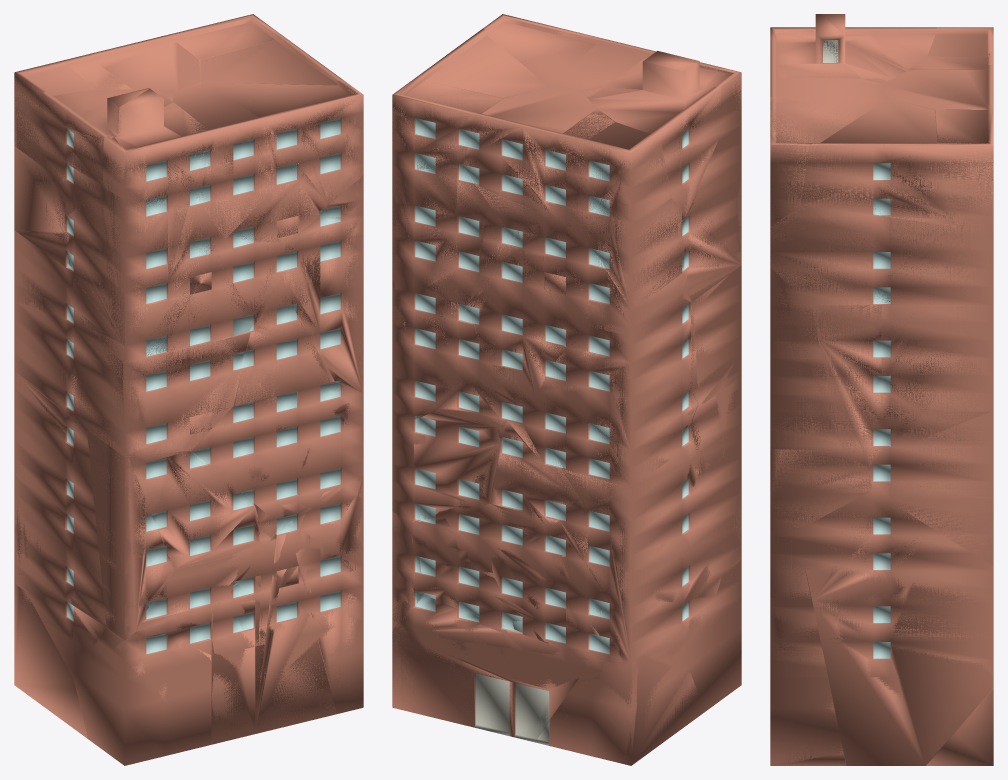
Rendered from Building1.fbx.
The picture shows the model from 3 angles, left to right: view 1: azimuth 30°, elevation 25°; view 2: azimuth 150°, elevation 25°; view 3: azimuth 270°, elevation 25°; orthographic projection.
Visible parts, largest first — view 1: Building1_destroyed, Building1_destroyed_cell.033, Building1_destroyed_cell.017, Building1_destroyed_cell.037, Building1_destroyed_cell.005, Building1_destroyed_cell.030, Building1_destroyed_cell.020, Building1_destroyed_cell.025, Building1_destroyed_cell.011, Building1_destroyed_cell.001, Building1_destroyed_cell.019, Building1_destroyed_cell.023 (+16 smaller); view 2: Building1_destroyed, Building1_destroyed_cell.013, Building1_destroyed_cell.036, Building1_destroyed_cell.021, Building1_destroyed_cell.006, Building1_destroyed_cell.016, Building1_destroyed_cell.023, Building1_destroyed_cell.010, Building1_destroyed_cell.027, Building1_destroyed_cell.042, Building1_destroyed_cell.001, Building1_destroyed_cell.022 (+18 smaller); view 3: Building1_destroyed, Building1_destroyed_cell.009, Building1_destroyed_cell.022, Building1_destroyed_cell.015, Building1_destroyed_cell.029, Building1_destroyed_cell.040, Building1_destroyed_cell.020, Building1_destroyed_cell.042, Building1_destroyed_cell.037, Building1_destroyed_cell.036, Building1_destroyed_cell.021, Building1_destroyed_cell.014 (+8 smaller).
Boxes of the visible parts, x1,y1,x2,y2 form: Building1_destroyed: (14,17,363,765); Building1_destroyed_cell.033: (79,333,250,457); Building1_destroyed_cell.017: (86,429,173,640); Building1_destroyed_cell.037: (281,215,363,392); Building1_destroyed_cell.005: (196,120,327,242); Building1_destroyed_cell.030: (255,524,336,733); Building1_destroyed_cell.020: (205,80,363,203); Building1_destroyed_cell.025: (137,451,279,569); Building1_destroyed_cell.011: (71,188,220,345); Building1_destroyed_cell.001: (14,584,87,738); Building1_destroyed_cell.019: (287,476,363,698); Building1_destroyed_cell.023: (42,88,174,213); Building1_destroyed: (392,17,741,762); Building1_destroyed_cell.013: (392,595,588,741); Building1_destroyed_cell.036: (463,87,596,229); Building1_destroyed_cell.021: (412,411,503,523); Building1_destroyed_cell.006: (392,169,511,304); Building1_destroyed_cell.016: (490,400,582,529); Building1_destroyed_cell.023: (583,61,720,213); Building1_destroyed_cell.010: (537,294,698,450); Building1_destroyed_cell.027: (574,198,686,309); Building1_destroyed_cell.042: (392,74,502,169); Building1_destroyed_cell.001: (535,655,697,765); Building1_destroyed_cell.022: (420,28,548,97); Building1_destroyed: (770,14,993,765); Building1_destroyed_cell.009: (805,504,993,765); Building1_destroyed_cell.022: (803,98,954,225); Building1_destroyed_cell.015: (811,305,881,466); Building1_destroyed_cell.029: (770,206,951,304); Building1_destroyed_cell.040: (770,449,871,530); Building1_destroyed_cell.020: (770,96,884,225); Building1_destroyed_cell.042: (935,105,993,223); Building1_destroyed_cell.037: (770,268,839,449); Building1_destroyed_cell.036: (882,65,993,109); Building1_destroyed_cell.021: (885,484,993,565); Building1_destroyed_cell.014: (873,411,993,483).
Bounding box in the file's own units: 120 × 305 × 96.
